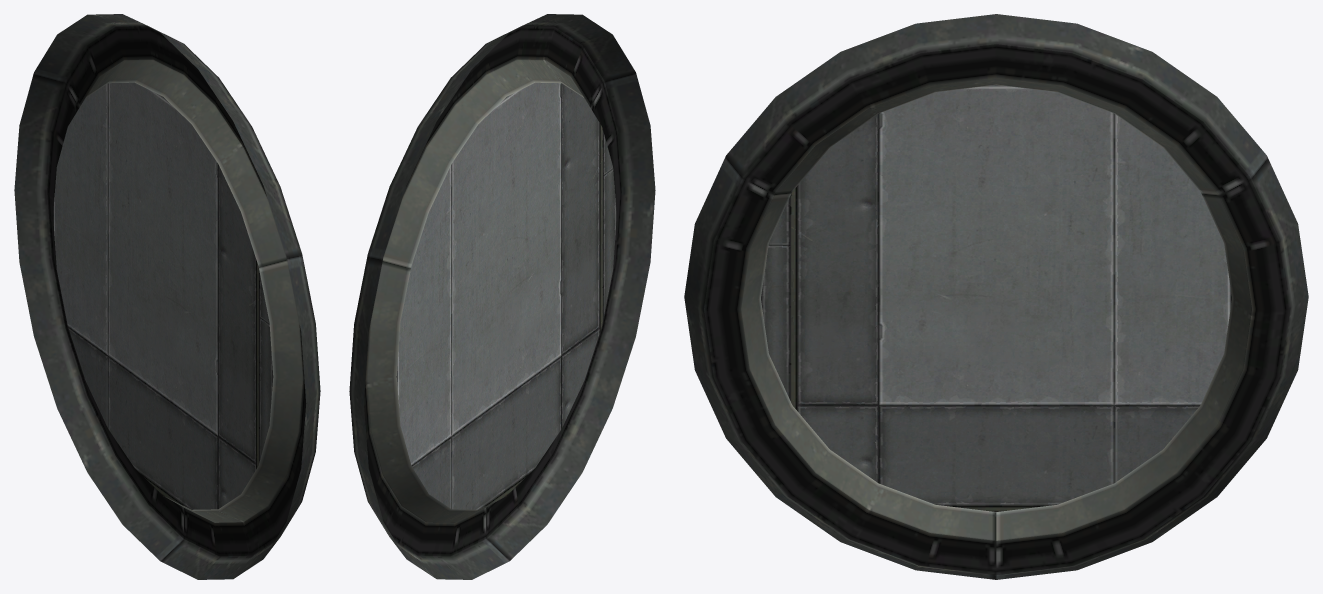
File: Wall_Fan_01.FBX
3 views of the same model, side by side, from view 1: azimuth 30°, elevation 25°; view 2: azimuth 150°, elevation 25°; view 3: azimuth 270°, elevation 25° (orthographic). The views are drawn at different scales.
Visible parts, largest first — view 1: Wall_Fan_01; view 2: Wall_Fan_01; view 3: Wall_Fan_01.
Part boxes in pixels (x1,y1,x2,y2): Wall_Fan_01: [14, 14, 320, 579]; Wall_Fan_01: [349, 14, 655, 579]; Wall_Fan_01: [684, 14, 1308, 579].
Size of the model in its own units: 0.1483 by 3.17 by 3.17.
